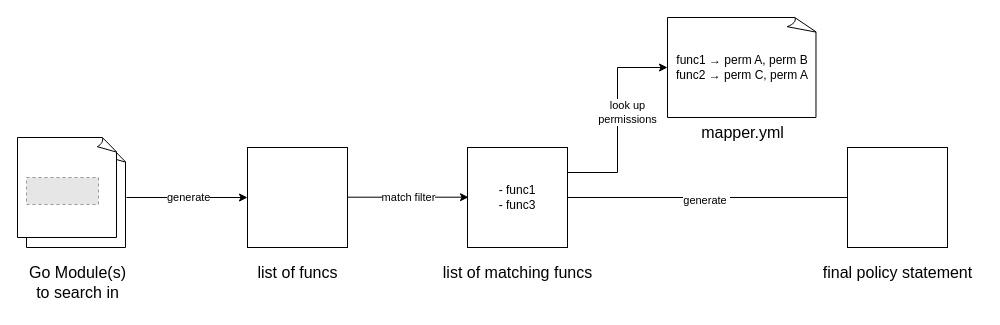
Some shapes in this 1000 by 325 pixel diagram are drawn without their labels. Grey dashed boxes stand in for pictures. Each missing label, with the centre of its shape:
- func1 - func2 - func3: point 297,197
{ perm A, perm B, perm C }: point 897,197
